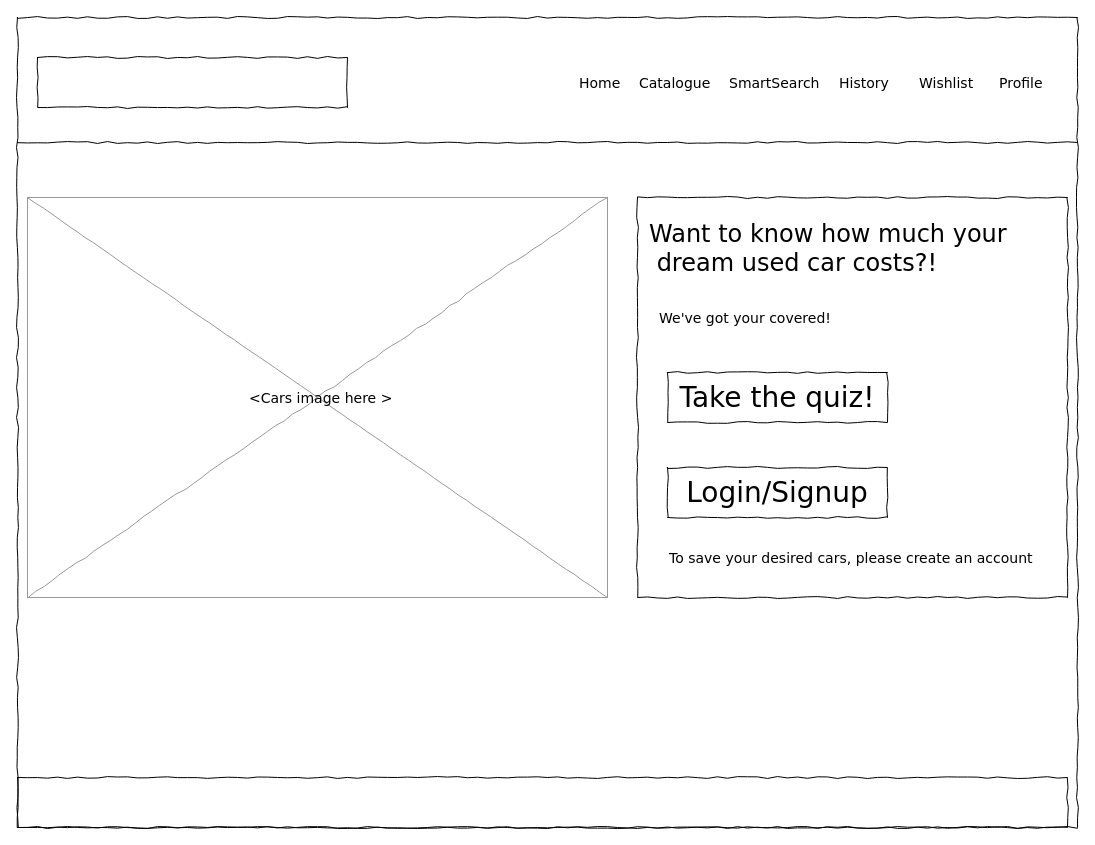
Image size: 1095x845. Some labels were removed from this diagram. Here are the shapes that lost their labels. From the top down, the centre of each, then its label:
point 192,82: Giggles Gears
point 542,802: Footer
